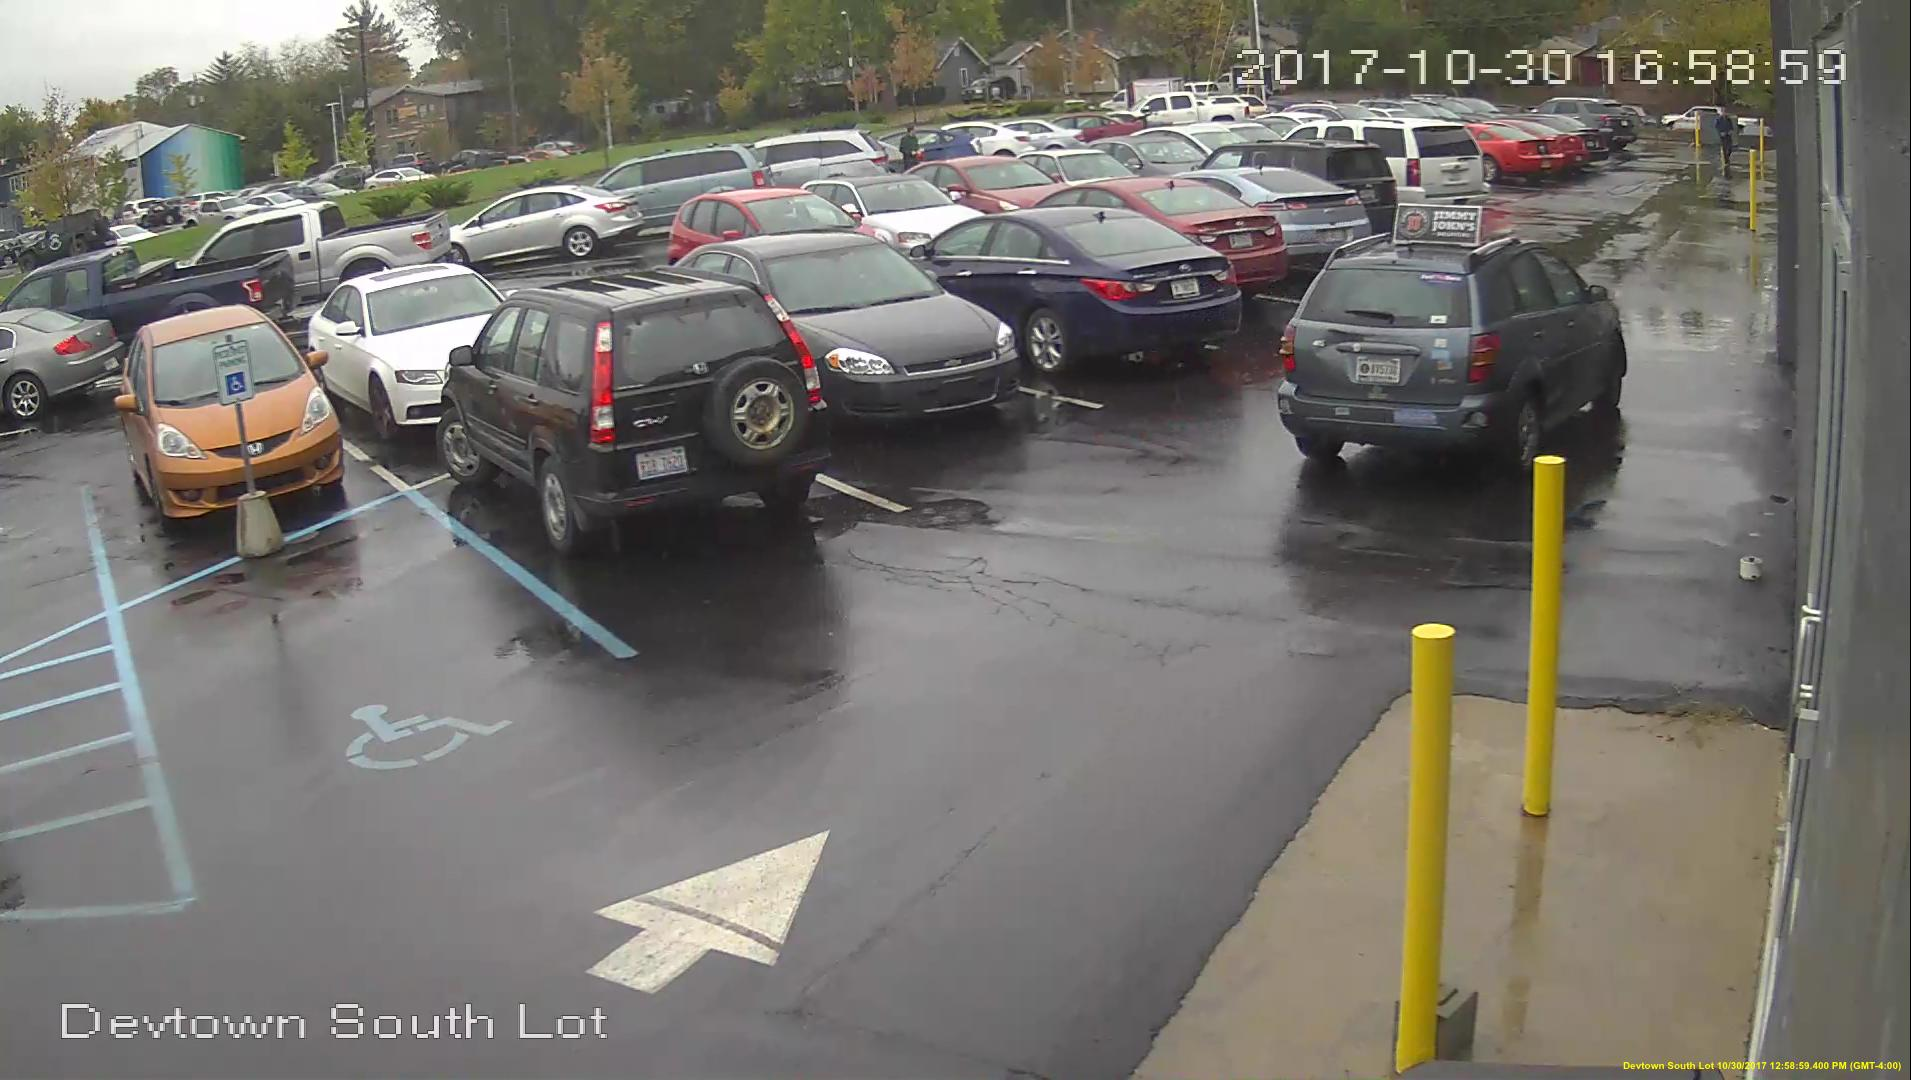jimmy_johns: (1387, 198, 1484, 251)
